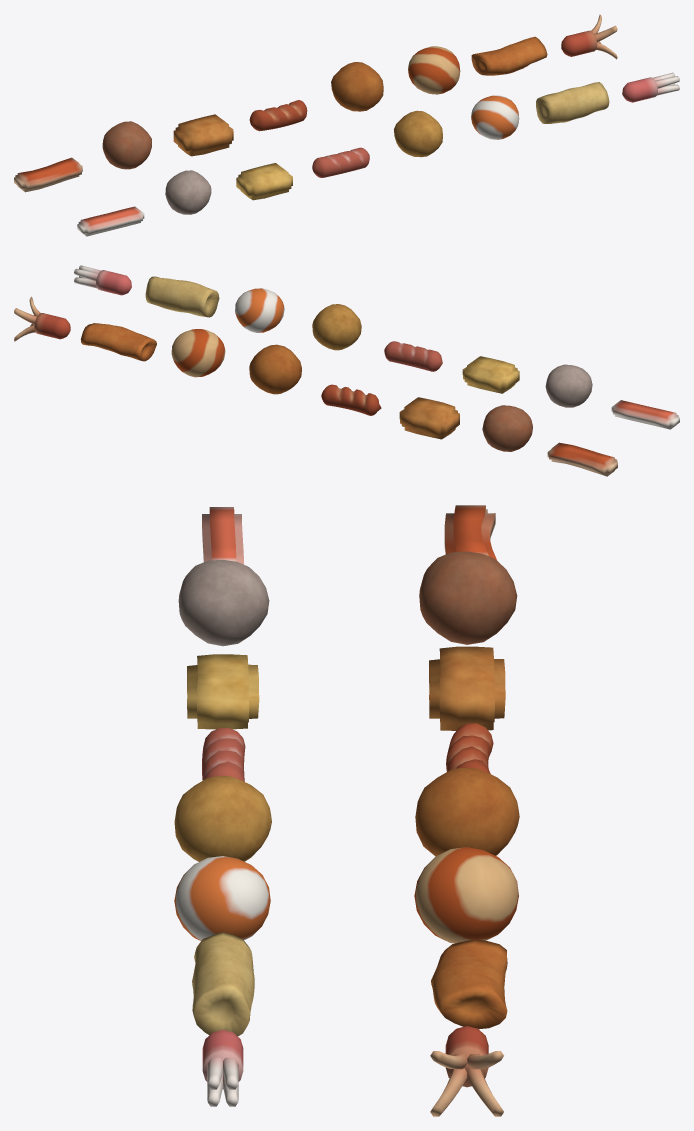
File: Phase2_Meatballs_P1.glb
3 renders of one model, top to bottom at view 1: azimuth 30°, elevation 25°; view 2: azimuth 150°, elevation 25°; view 3: azimuth 270°, elevation 25°, orthographic. The views are drawn at different scales.
Parts seen in each view (by area): view 1: FriedTofuSkinRoll_Raw, FriedFishBall_Cooked, StripedFishBall_Cooked, FishTofu_Cooked, PorkBall_Cooked, FriedTofuSkinRoll_Cooked, FriedFishBall_Raw, StripedFishBall_Raw, PorkBall_Raw, FishTofu_Raw, CrabStick_Cooked, Sausage_Cooked (+4 smaller); view 2: FriedTofuSkinRoll_Raw, StripedFishBall_Cooked, FriedFishBall_Cooked, FishTofu_Cooked, PorkBall_Cooked, FriedTofuSkinRoll_Cooked, FriedFishBall_Raw, StripedFishBall_Raw, PorkBall_Raw, FishTofu_Raw, CrabStick_Cooked, Sausage_Cooked (+4 smaller); view 3: StripedFishBall_Cooked, FriedFishBall_Cooked, PorkBall_Cooked, FriedFishBall_Raw, StripedFishBall_Raw, PorkBall_Raw, FishTofu_Cooked, FriedTofuSkinRoll_Cooked, FriedTofuSkinRoll_Raw, FishTofu_Raw, CuttlefishSausage_Cooked, CuttlefishSausage_Raw (+4 smaller).
Boxes of the visible parts, x1,y1,x2,y2 form: FriedTofuSkinRoll_Raw: (536, 82, 609, 123); FriedFishBall_Cooked: (331, 62, 383, 111); StripedFishBall_Cooked: (408, 46, 460, 94); FishTofu_Cooked: (173, 114, 233, 156); PorkBall_Cooked: (102, 121, 151, 169); FriedTofuSkinRoll_Cooked: (471, 36, 547, 75); FriedFishBall_Raw: (394, 110, 442, 157); StripedFishBall_Raw: (471, 95, 519, 139); PorkBall_Raw: (165, 170, 211, 214); FishTofu_Raw: (236, 163, 292, 200); CrabStick_Cooked: (14, 157, 82, 192); Sausage_Cooked: (249, 100, 307, 131); FriedTofuSkinRoll_Raw: (145, 276, 219, 317); StripedFishBall_Cooked: (171, 329, 225, 377); FriedFishBall_Cooked: (249, 344, 301, 394); FishTofu_Cooked: (399, 397, 459, 439); PorkBall_Cooked: (482, 405, 532, 451); FriedTofuSkinRoll_Cooked: (80, 323, 156, 361); FriedFishBall_Raw: (312, 304, 361, 350); StripedFishBall_Raw: (235, 288, 284, 332); PorkBall_Raw: (545, 364, 592, 407); FishTofu_Raw: (462, 356, 519, 393); CrabStick_Cooked: (547, 442, 617, 476); Sausage_Cooked: (321, 384, 381, 415); StripedFishBall_Cooked: (414, 847, 518, 943); FriedFishBall_Cooked: (415, 768, 519, 856); PorkBall_Cooked: (419, 551, 517, 644); FriedFishBall_Raw: (174, 776, 271, 861); StripedFishBall_Raw: (174, 856, 270, 940); PorkBall_Raw: (178, 559, 269, 646); FishTofu_Cooked: (429, 646, 505, 730); FriedTofuSkinRoll_Cooked: (431, 939, 507, 1029); FriedTofuSkinRoll_Raw: (192, 932, 254, 1036); FishTofu_Raw: (187, 654, 259, 729); CuttlefishSausage_Cooked: (430, 1026, 503, 1116); CuttlefishSausage_Raw: (202, 1030, 243, 1106).
Size of the model in its own units: 0.62 by 0.05 by 0.1555.
Materials: 16 (16 with a texture image).
